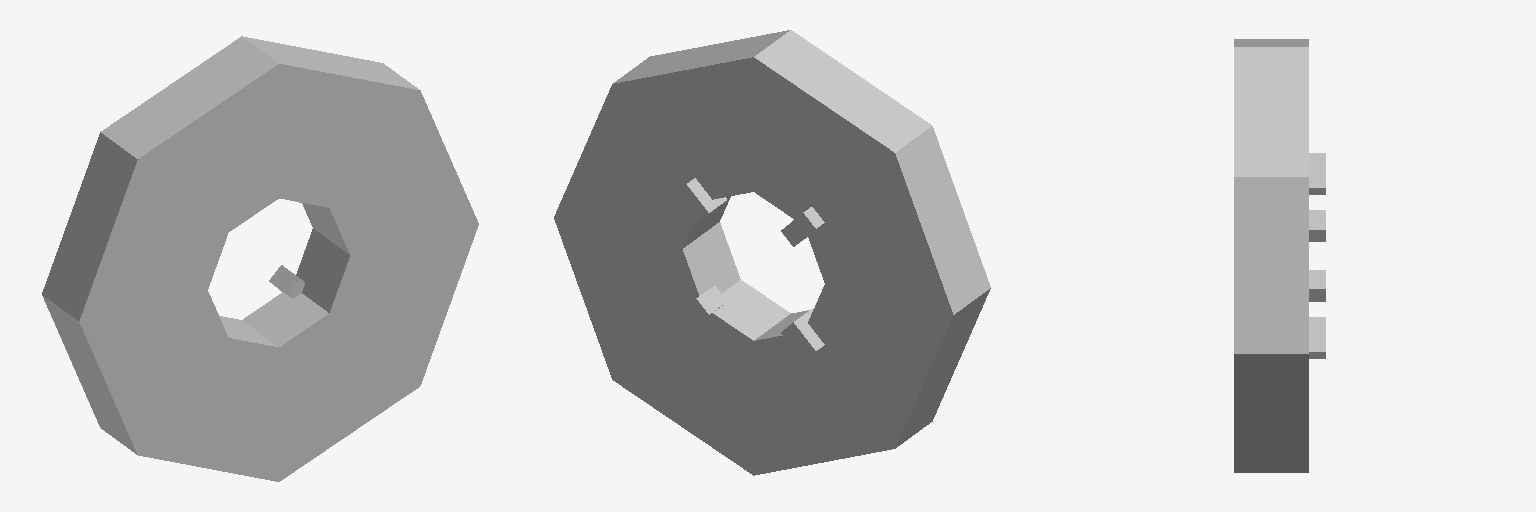
The model's file is collisions.obj.
The picture shows the model from 3 angles: view 1: azimuth 30°, elevation 25°; view 2: azimuth 150°, elevation 25°; view 3: azimuth 270°, elevation 25°; orthographic projection.
Parts seen in each view (by area): view 1: collision, podium_collision; view 2: collision, podium_collision; view 3: collision, podium_collision.
Boxes of the visible parts, x1=… form: collision: x1=42, y1=36, x2=478, y2=481; podium_collision: x1=269, y1=202, x2=304, y2=298; collision: x1=554, y1=30, x2=990, y2=475; podium_collision: x1=674, y1=178, x2=824, y2=361; collision: x1=1234, y1=39, x2=1308, y2=472; podium_collision: x1=1309, y1=153, x2=1325, y2=358.
Size of the model in its own units: 59.8 by 59.8 by 12.